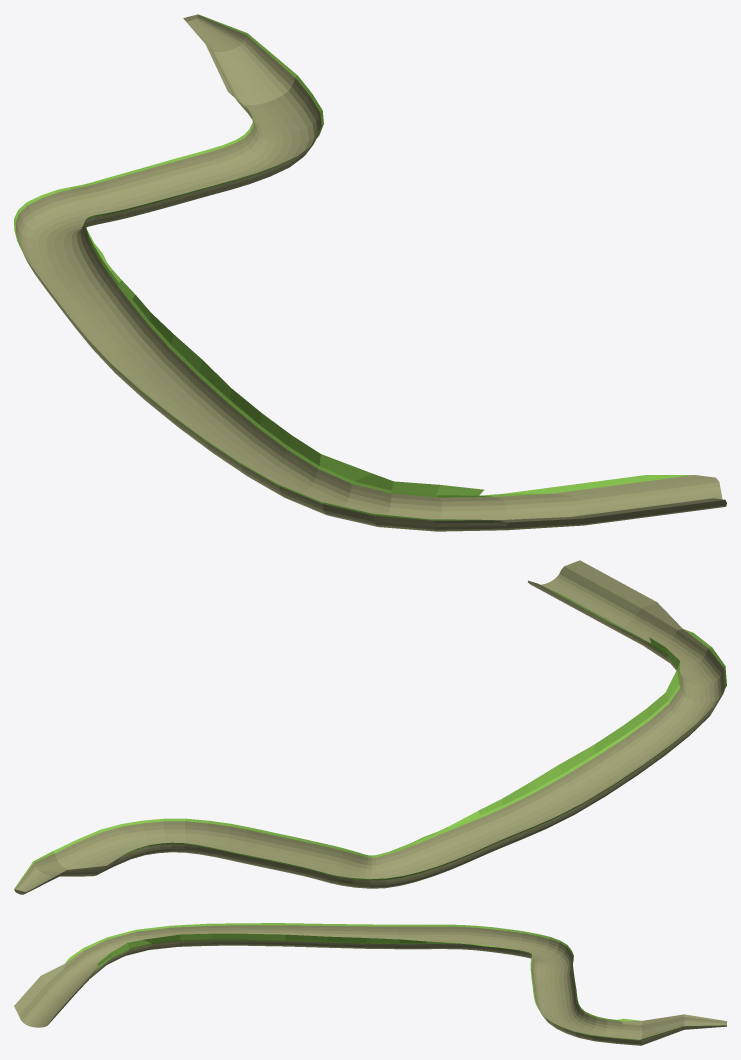
The model's file is riopt1.glb.
3 renders of one model, top to bottom at view 1: azimuth 30°, elevation 25°; view 2: azimuth 150°, elevation 25°; view 3: azimuth 270°, elevation 25°, orthographic. The views are drawn at different scales.
Visible parts, largest first — view 1: rio; view 2: rio; view 3: rio.
Part boxes in pixels (x1=…): rio: x1=14, y1=14, x2=726, y2=531; rio: x1=14, y1=560, x2=726, y2=894; rio: x1=14, y1=923, x2=726, y2=1045.
Size of the model in its own units: 204 by 22.31 by 500.
